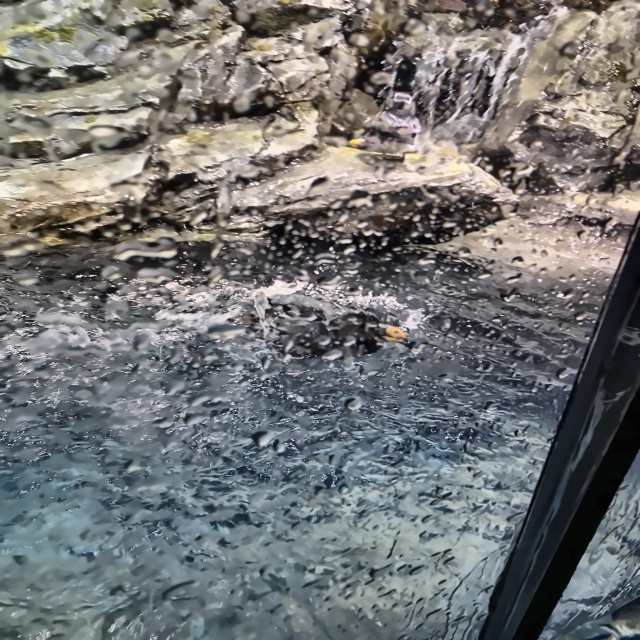puffin: (228, 292, 411, 362), (347, 106, 422, 166)
